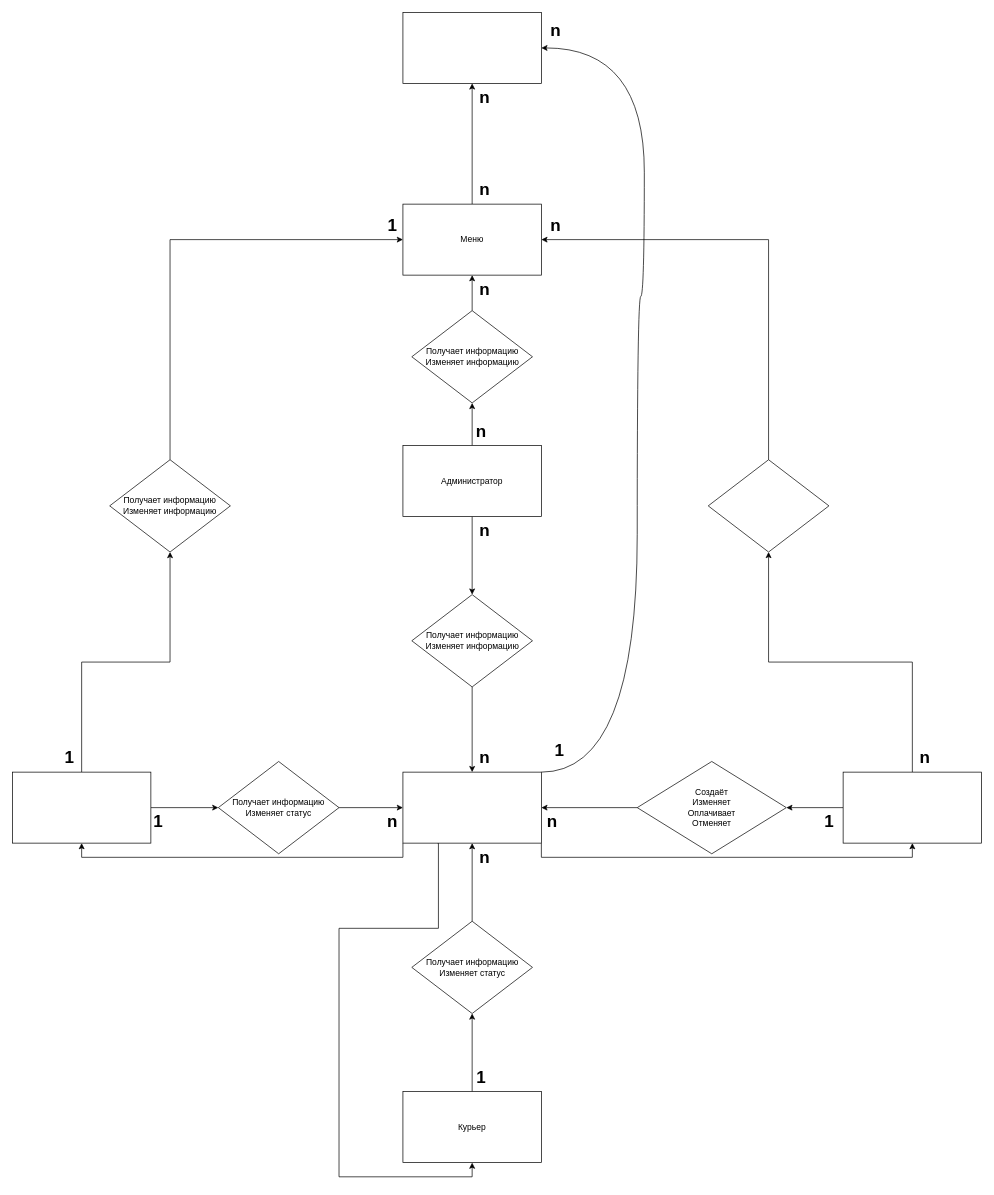
The diagram is 994 pixels wide and 1195 high, and some of its shapes have lost their labels. Each missing label, with the centre of its shape:
Блюдо: point (471, 47)
Заказ: point (471, 807)
Клиент: point (912, 807)
Кухня: point (81, 807)
Получает информацию: point (768, 505)
